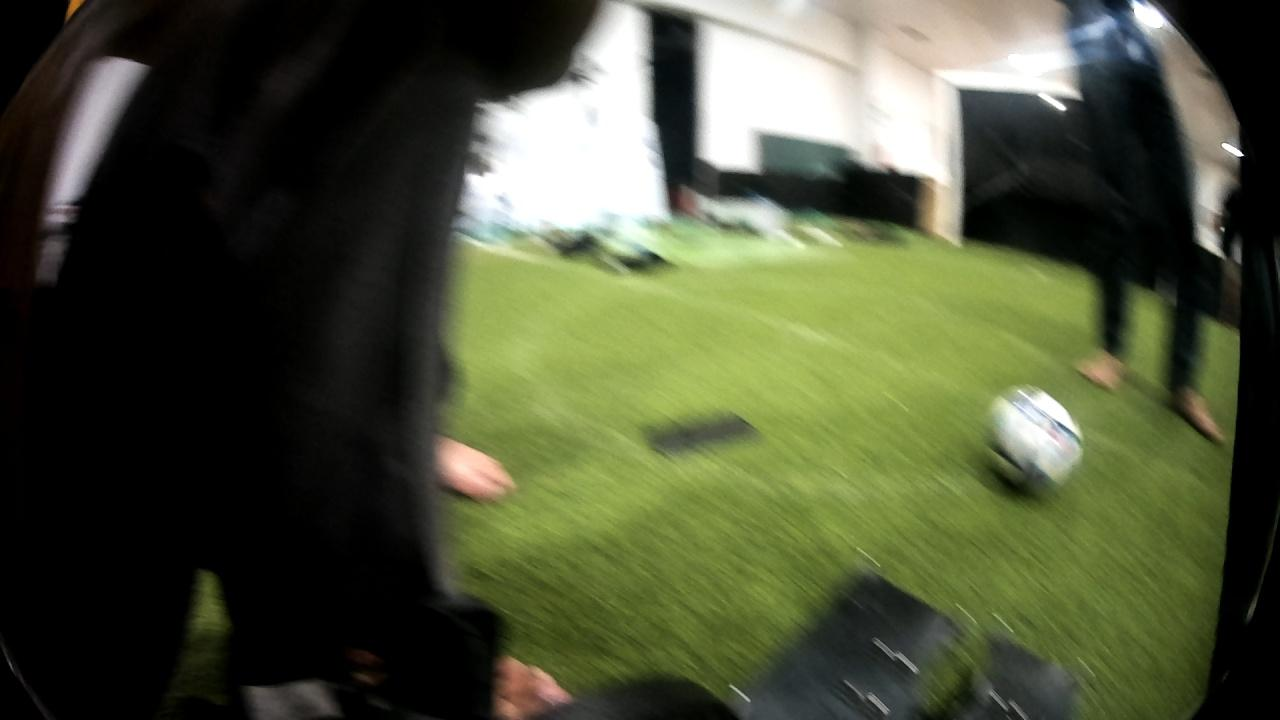ball: (971, 374, 1090, 506)
